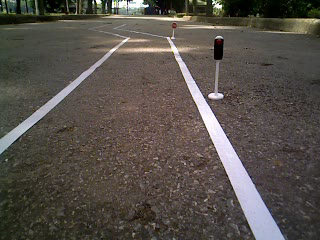Red: (212, 34, 227, 64)
